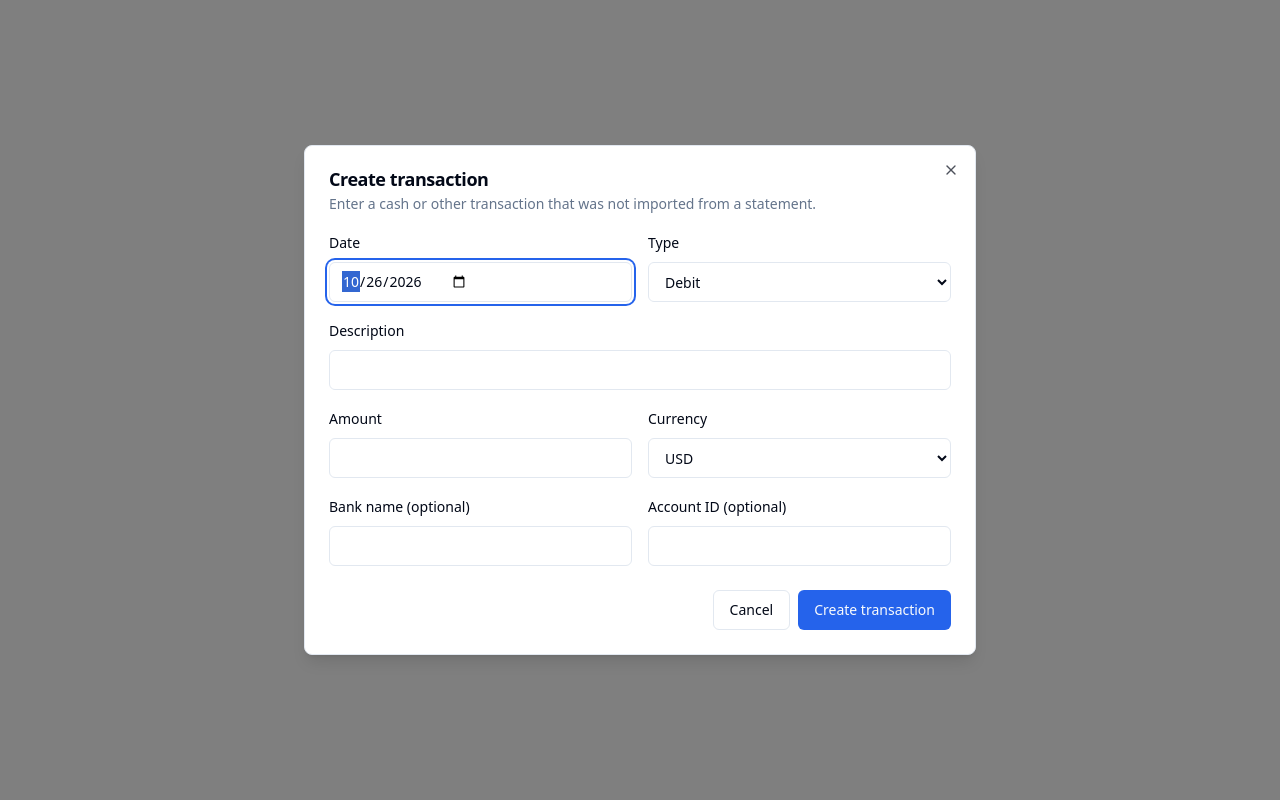
Test: CreateTransactionDialog › rejects empty or zero amounts before transport
The image size is (1280, 800).
Expected: the dropdown labelled "Currency" is enabled, 648,438 -> 951,478
Type "0" into the number field labelled "Amount". click: (480, 458)
box: 329,438 -> 632,478
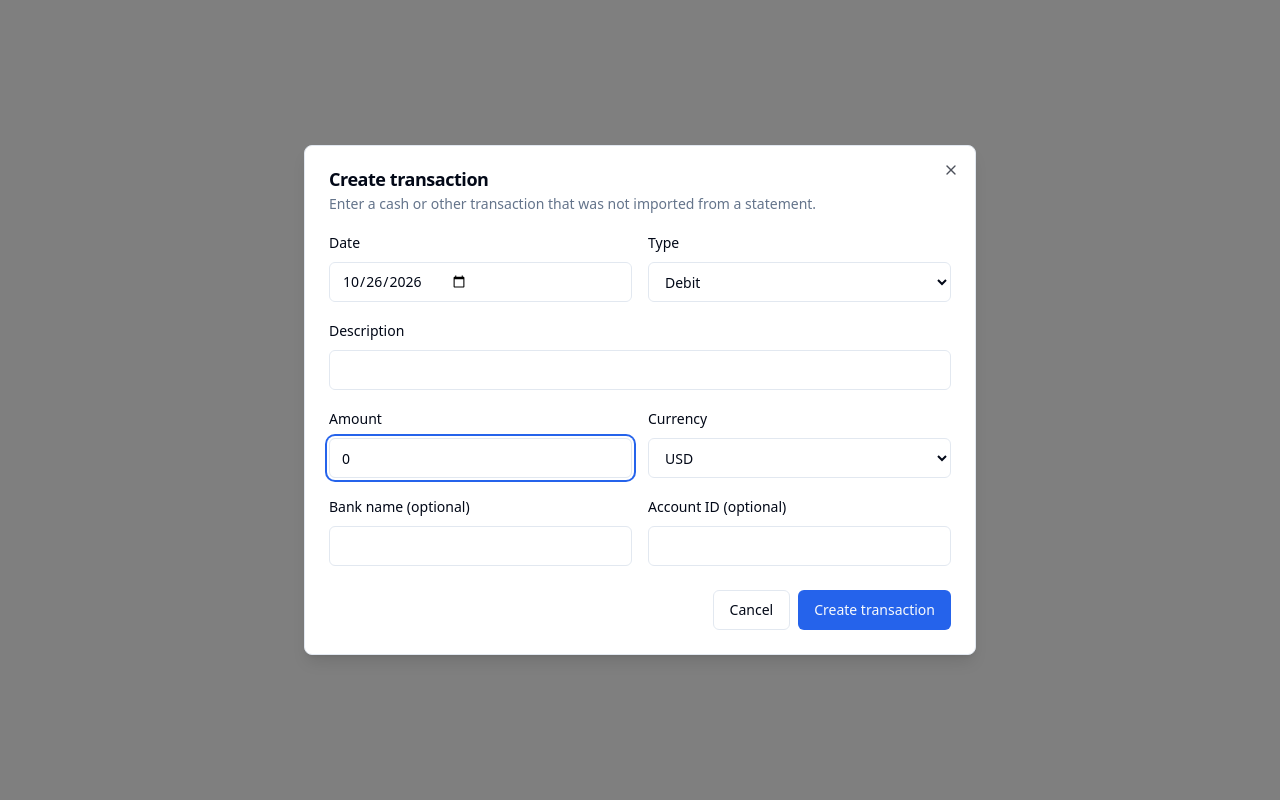
Click the button "Create transaction". click: (875, 610)
box: 798,590 -> 951,630
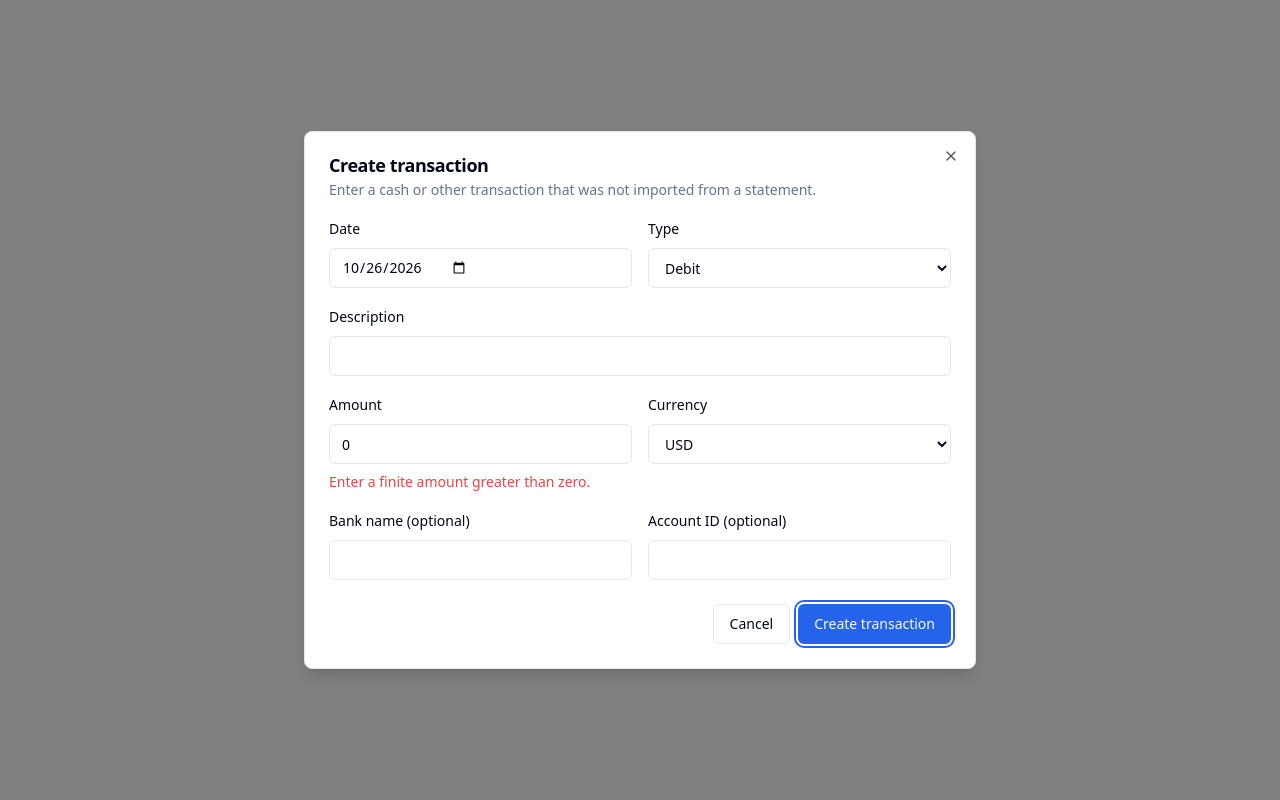
Result: the text "Enter a finite amount greater than zero." is shown at 329,472 -> 632,492
Clear the number field labelled "Amount". click: (480, 444)
box: 329,424 -> 632,464
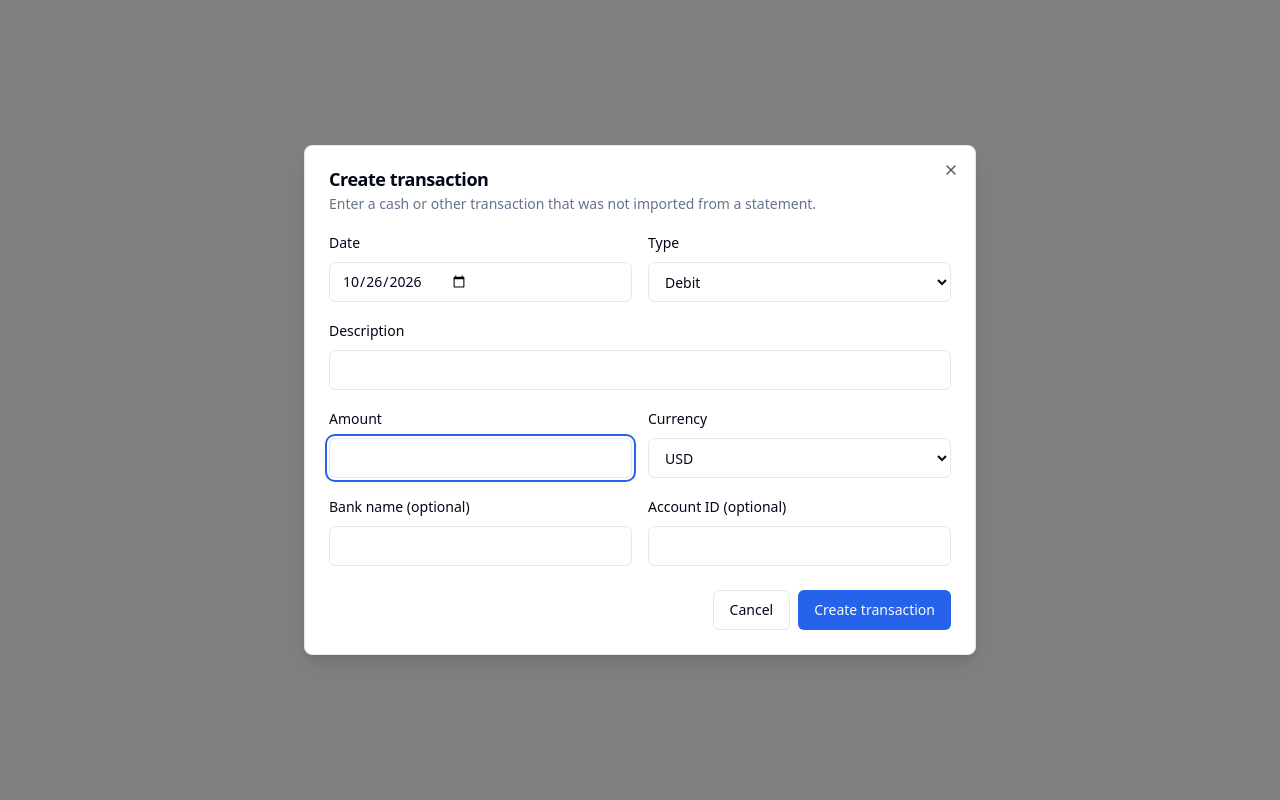
Click the button "Create transaction". click: (875, 610)
box: 798,590 -> 951,630
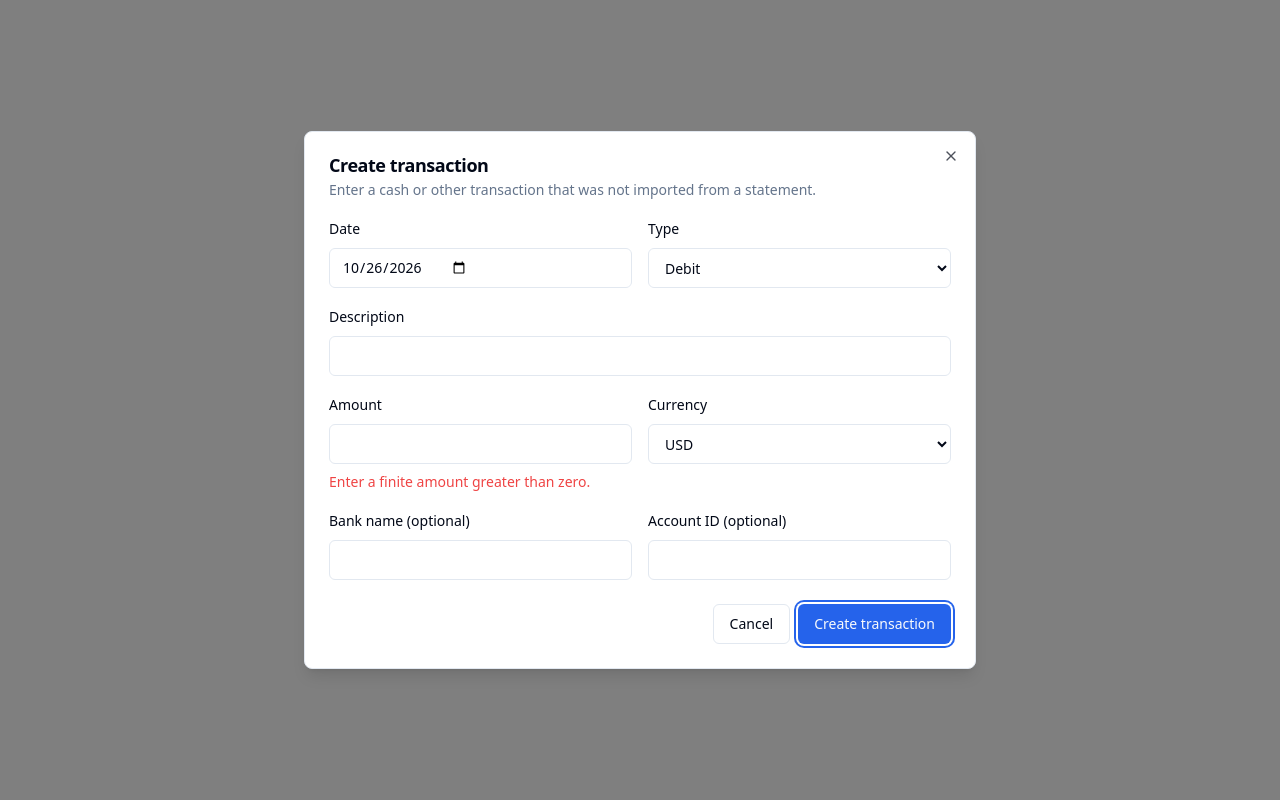
Result: the text "Enter a finite amount greater than zero." is shown at 329,472 -> 632,492
